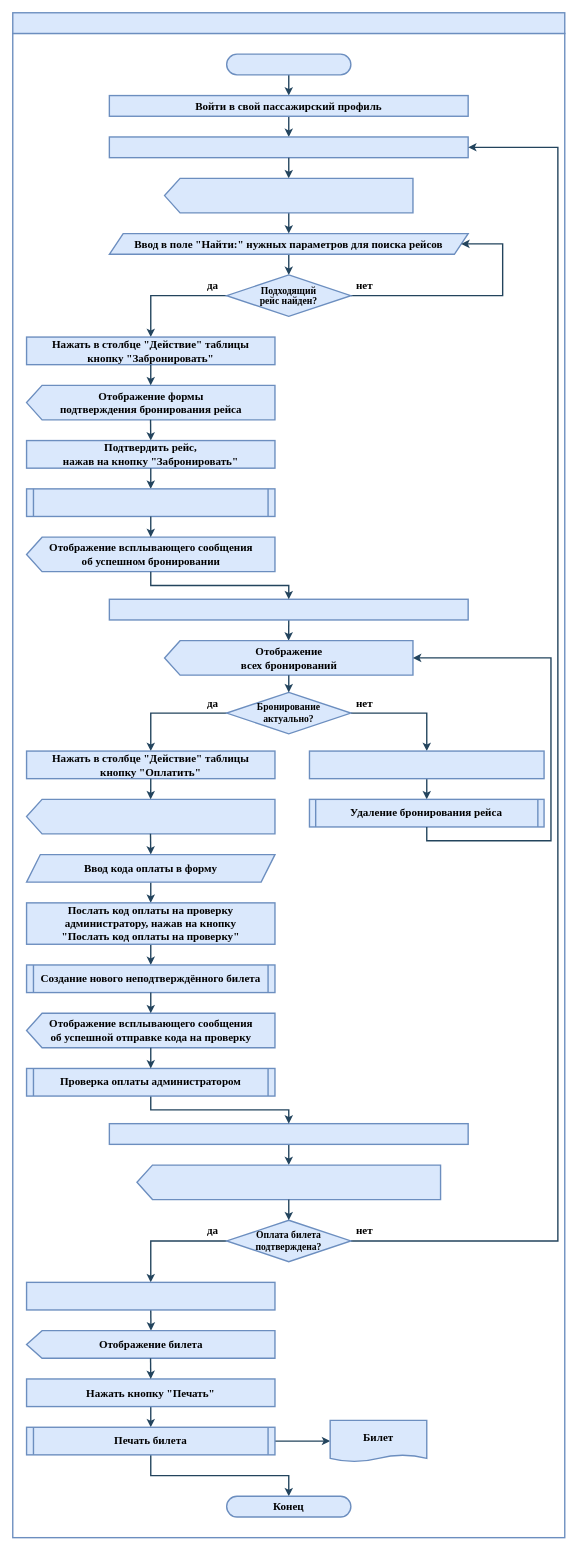
Image size: 577x1550. Some labels were removed from this diagram. The shapes that lost their labels are listed below. From the top down, each one's centre as x and y in pixels, then its label:
pixel 288 23: Функциональная схема покупки билета пассажиром
pixel 288 64: Начало
pixel 288 147: Нажать в боковом меню "Рейсы" – "Просмотр рейсов"
pixel 288 195: Отображение всех доступных рейсов
pixel 150 502: Создание нового бронирования рейса
pixel 288 609: Нажать в боковом меню "Рейсы" – "Мои бронирования"
pixel 426 764: Нажать в столбце "Действие" таблицы кнопку "Отменить"
pixel 150 816: Отображение формы оплаты забронированного рейса
pixel 288 1134: Нажать в боковом меню "Билеты" – "Мои билеты"
pixel 288 1182: Отображение всех билетов (и с подтверждённой, и с неподтверждённой оплатой)
pixel 150 1295: Нажать в столбце "Действие" таблицы кнопку "Печать"
